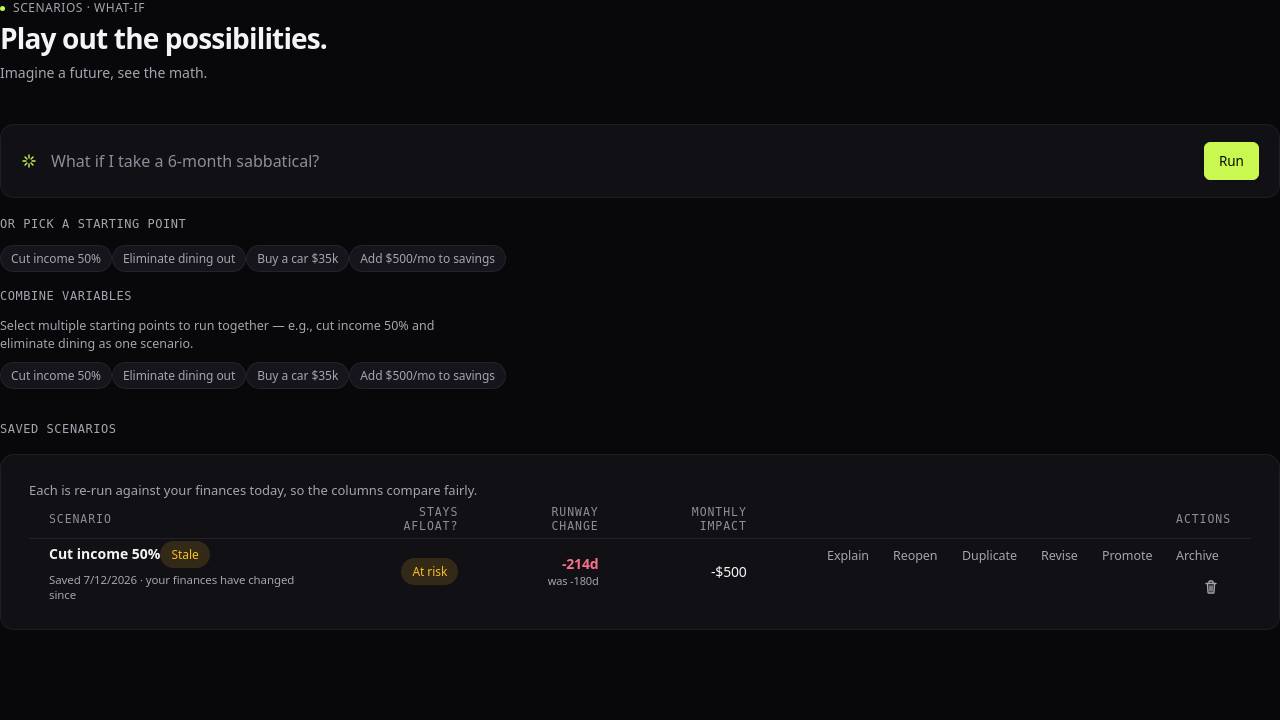
Test: Scenarios screen › explains a saved scenario in the inspector, with its tradeoffs (#71)
This screenshot has width=1280, height=720.
Click the button "Explain" at (848, 555), box 815,539 -> 881,571
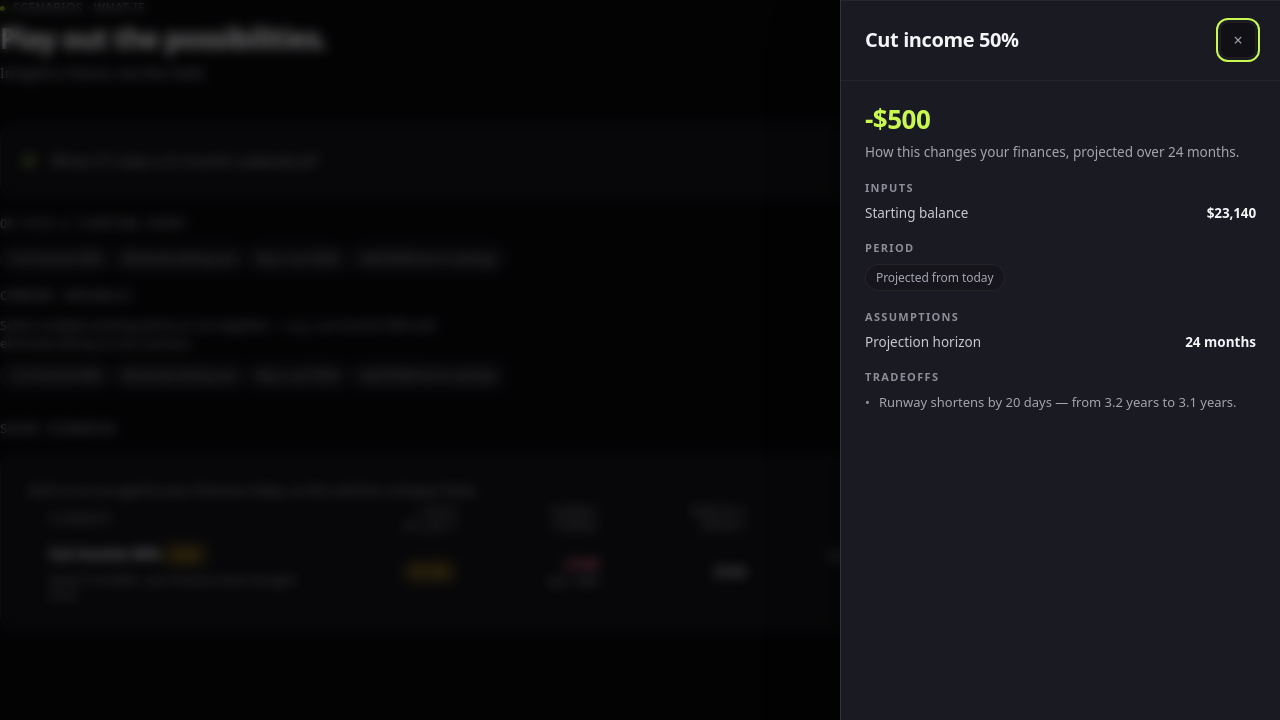
Result: the text "How this changes your finances, projected over 24 months." is shown at 865,142 -> 1256,162
Result: the text "Tradeoffs" is shown at 865,369 -> 939,384
Result: the text "Runway shortens by 20 days — from 3.2 years to 3.1 years." is shown at 879,393 -> 1237,412
